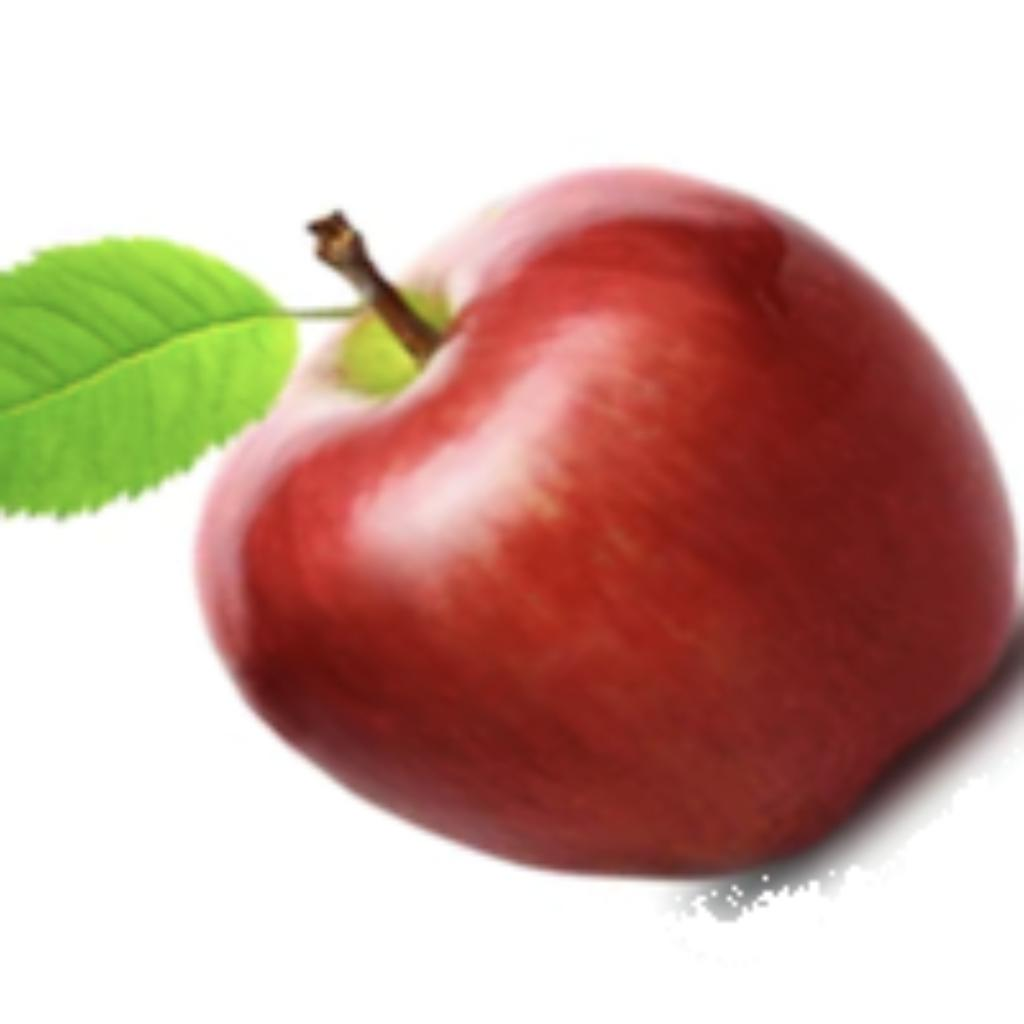apple: (0, 154, 1019, 922)
